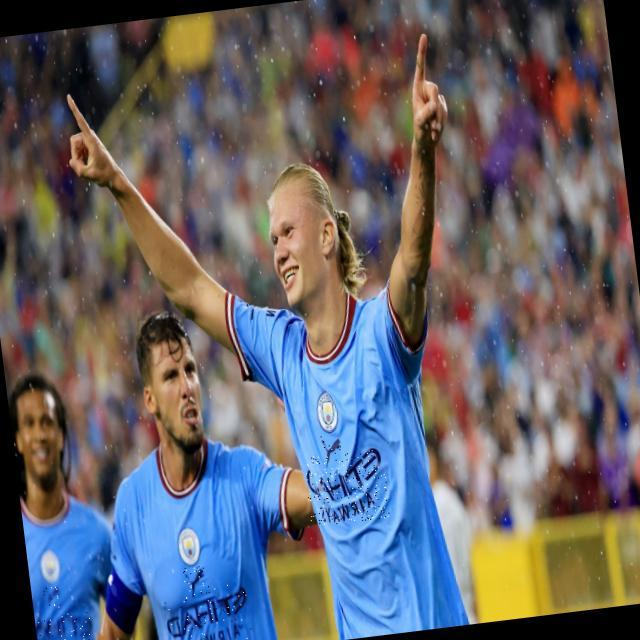Etihad Airways: (303, 447, 391, 527), (161, 581, 254, 640), (34, 610, 97, 640)
Puma: (181, 565, 207, 601), (320, 430, 344, 469), (40, 581, 63, 609)
